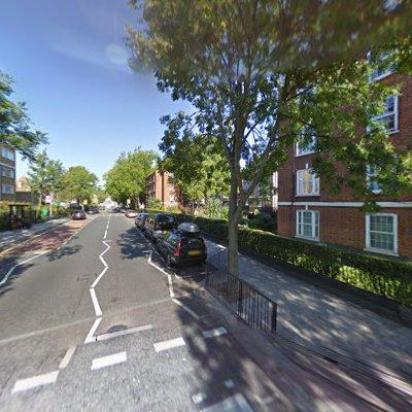stationary-car-onstreet: (154, 223, 204, 266), (134, 212, 152, 228), (70, 209, 88, 221), (125, 210, 137, 218), (87, 209, 96, 215)
stationary-light-truck-onstreet: (142, 213, 178, 239)
